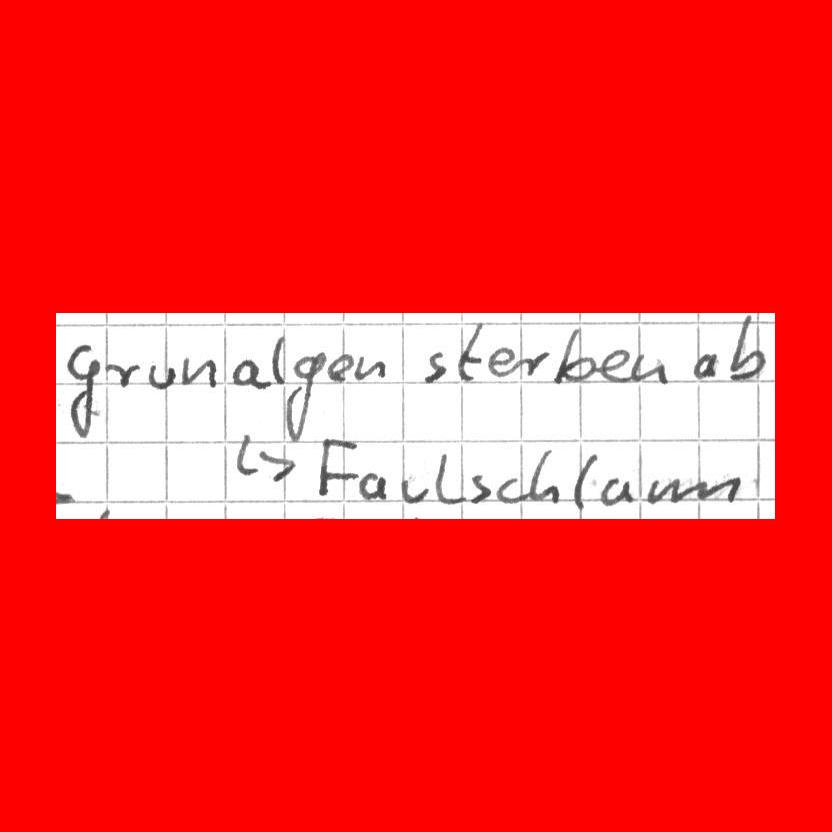Char: (64, 339, 102, 442), (284, 349, 326, 442), (233, 431, 297, 485), (728, 313, 771, 381), (647, 476, 742, 504), (316, 438, 358, 499), (551, 331, 596, 384), (453, 322, 487, 380), (527, 447, 563, 500), (433, 447, 464, 507), (572, 452, 598, 513), (180, 354, 215, 390), (598, 474, 635, 508), (631, 352, 667, 386), (517, 347, 549, 381), (599, 347, 630, 382), (231, 356, 263, 389), (356, 468, 387, 502), (487, 344, 517, 379), (268, 335, 288, 385), (106, 360, 139, 390), (422, 348, 447, 384), (691, 349, 719, 381), (354, 355, 386, 383), (400, 473, 428, 504), (147, 360, 175, 389), (467, 469, 489, 505), (495, 474, 522, 503), (328, 352, 353, 381)
